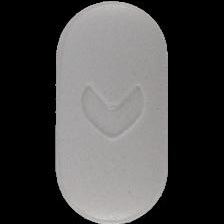61786-499: (0, 0, 224, 224)
